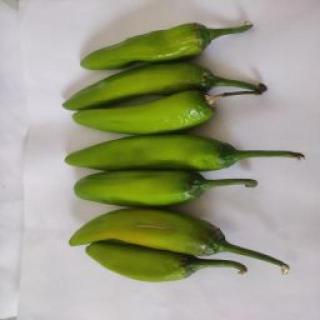Cabai Hijau: (63, 134, 307, 176), (79, 18, 259, 72), (68, 90, 270, 136), (83, 243, 252, 287)
